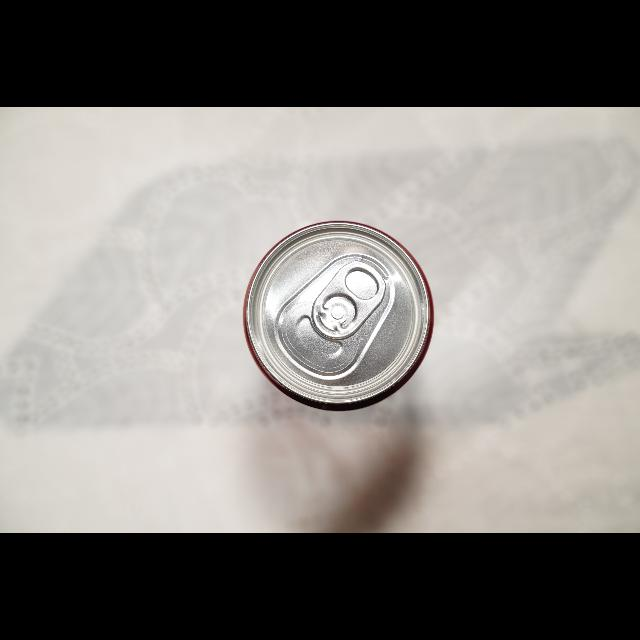coca_cola: (243, 220, 435, 412)
